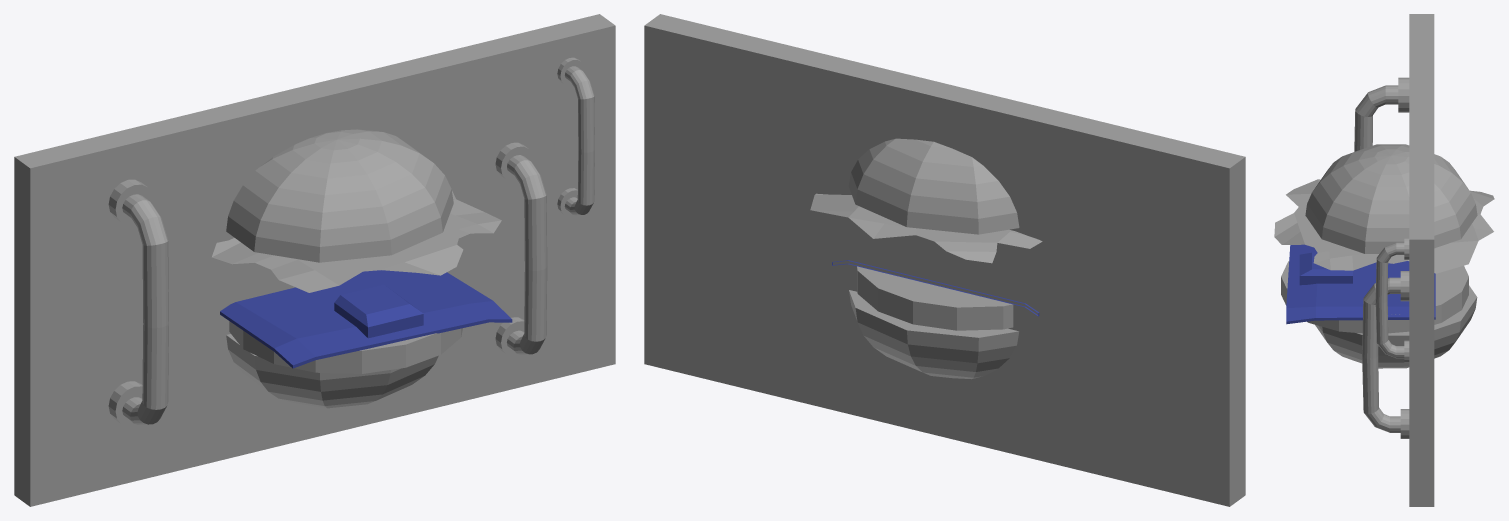
Rendered from Holy_Burger_Door.obj.
The picture shows the model from 3 angles, left to right: view 1: azimuth 30°, elevation 25°; view 2: azimuth 150°, elevation 25°; view 3: azimuth 270°, elevation 25°; orthographic projection. The views are drawn at different scales.
Parts seen in each view (by area): view 1: Cylinder.012_Cylinder.026, Sphere.000_Sphere.010; view 2: Cylinder.012_Cylinder.026, Sphere.000_Sphere.010; view 3: Sphere.000_Sphere.010, Cylinder.012_Cylinder.026.
Boxes of the visible parts, <box> form: Cylinder.012_Cylinder.026: <box>14,14,615,506</box>; Sphere.000_Sphere.010: <box>212,129,512,408</box>; Cylinder.012_Cylinder.026: <box>644,14,1245,506</box>; Sphere.000_Sphere.010: <box>810,138,1042,379</box>; Sphere.000_Sphere.010: <box>1274,144,1494,368</box>; Cylinder.012_Cylinder.026: <box>1354,14,1434,506</box>.
Size of the model in its own units: 193 by 107 by 79.67.
